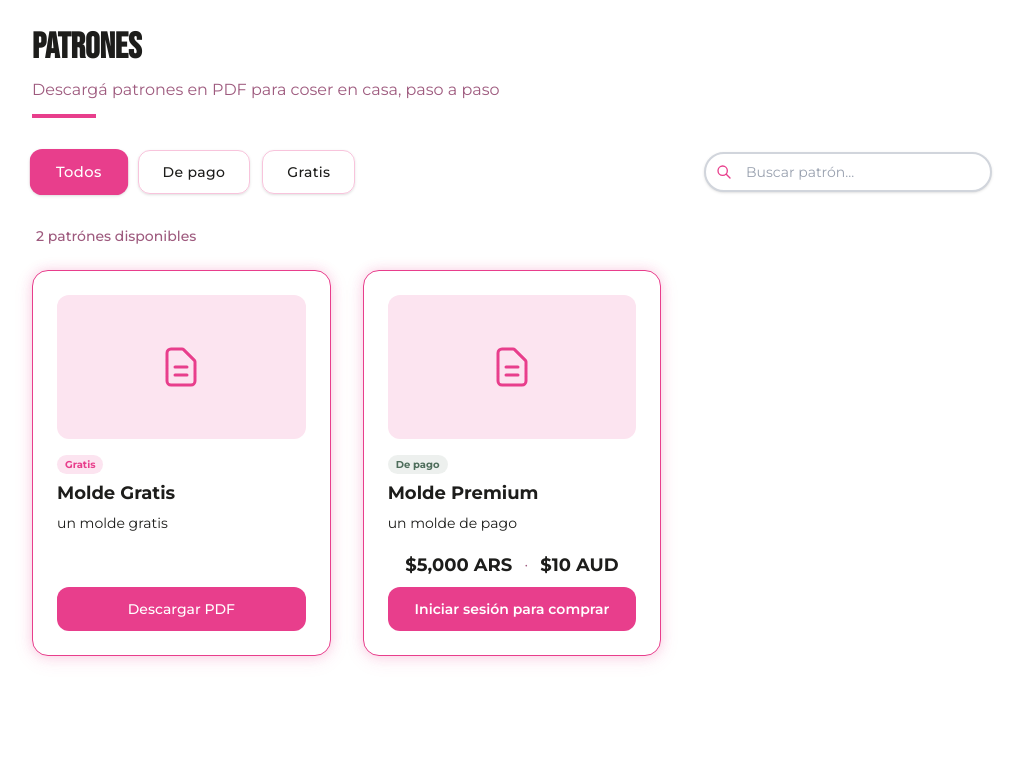
PatronesGratis — filtro por tipo › ofrece los filtros Todos / De pago / Gratis y filtra el listado
Expected: the heading "Molde Gratis" is shown, [57,482,175,504]
Expected: the heading "Molde Premium" is shown, [388,482,538,504]
Click the button "Gratis".
click(309, 172)  # box [262,150,355,194]
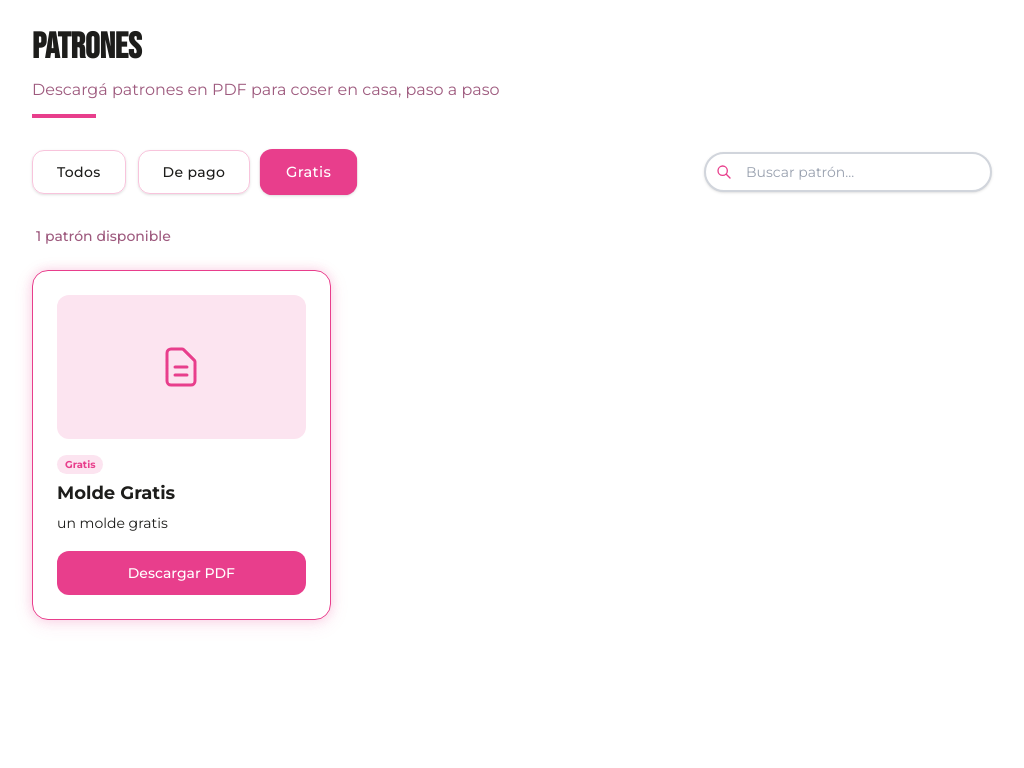
Expected: the heading "Molde Gratis" is shown, [57,482,175,504]
Expected: the heading "Molde Premium" is gone
Click the button "De pago".
click(194, 172)  # box [138,150,250,194]
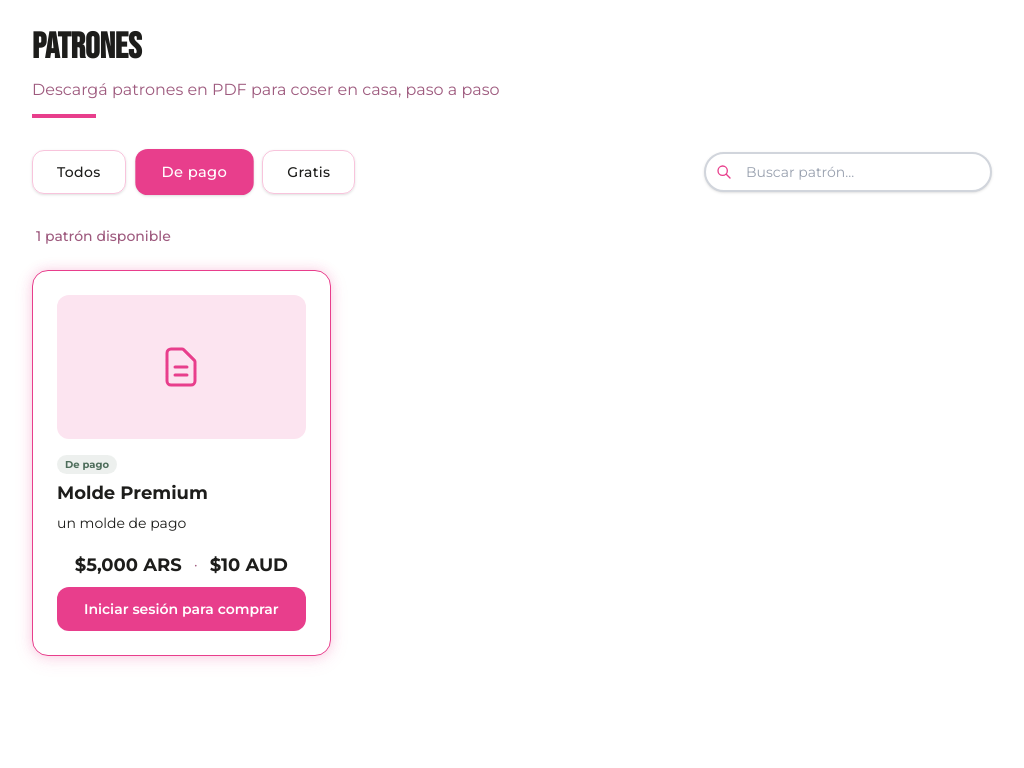
Expected: the heading "Molde Gratis" is gone
Expected: the heading "Molde Premium" is shown, [57,482,208,504]
Click the button "Todos".
click(79, 172)  # box [32,150,126,194]
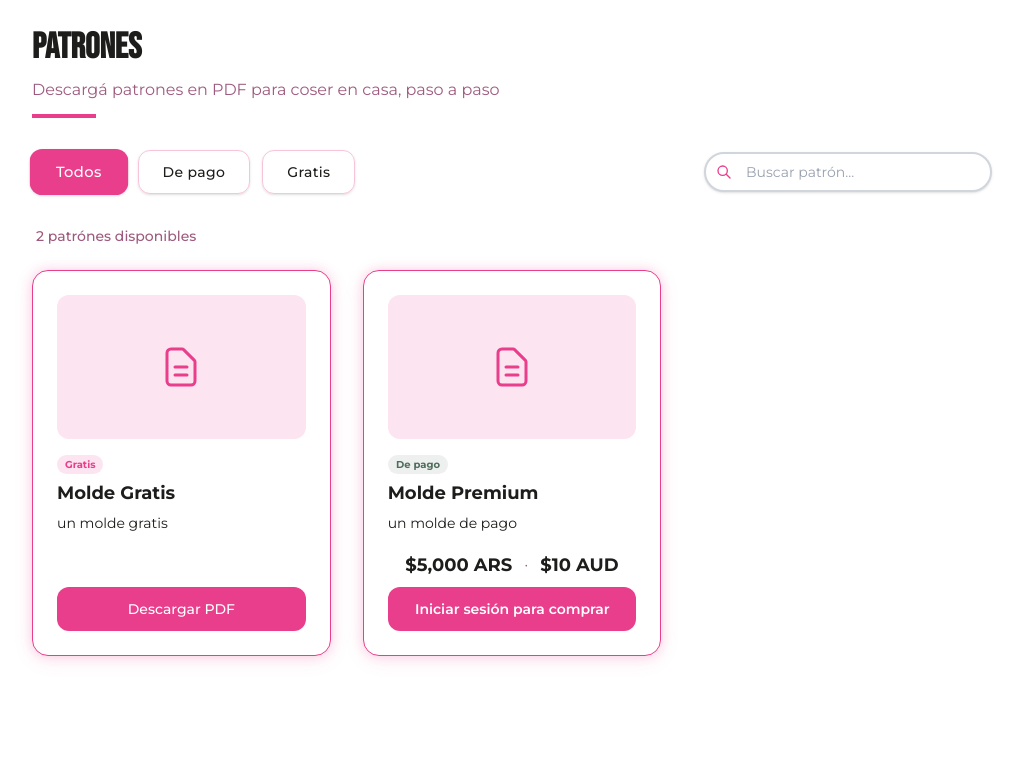
Expected: the heading "Molde Premium" is shown, [388,482,538,504]
Expected: the heading "Molde Gratis" is shown, [57,482,175,504]
